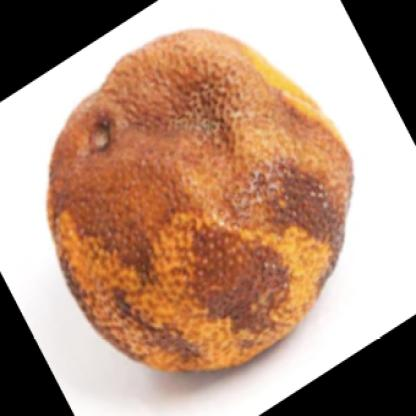rotten: (49, 28, 355, 374)
